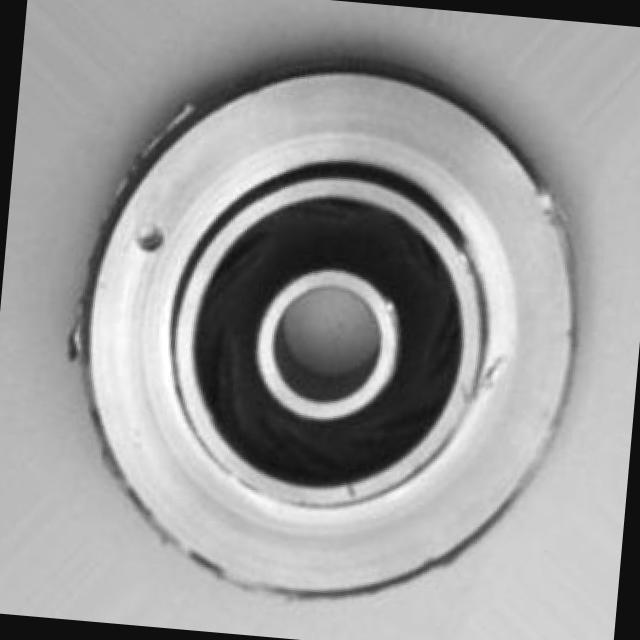Defect: (134, 220, 172, 254)
